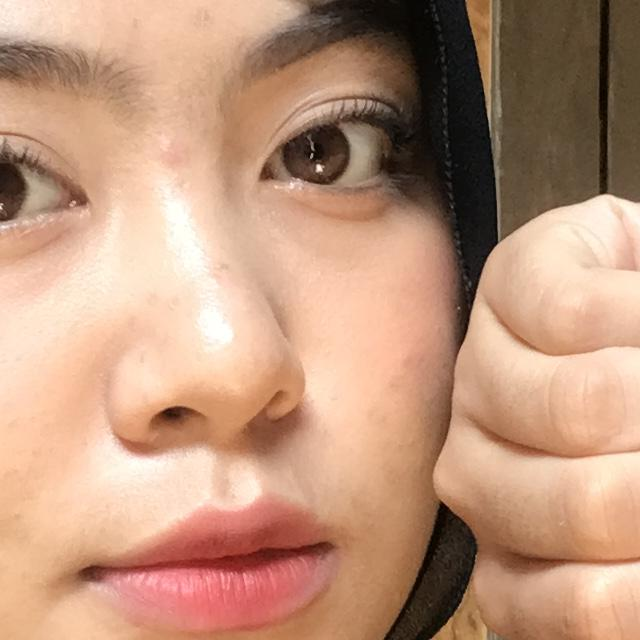sedih: (370, 126, 640, 640)
